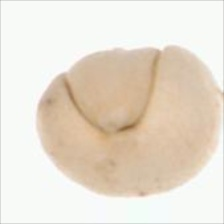L5: (58, 47, 166, 137), (103, 173, 181, 199)
L6: (31, 43, 224, 201)
